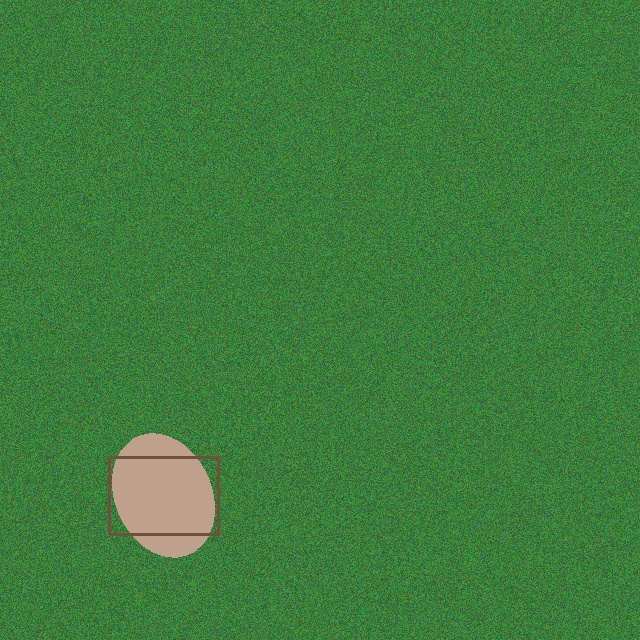corn borer: (99, 447, 228, 544)
